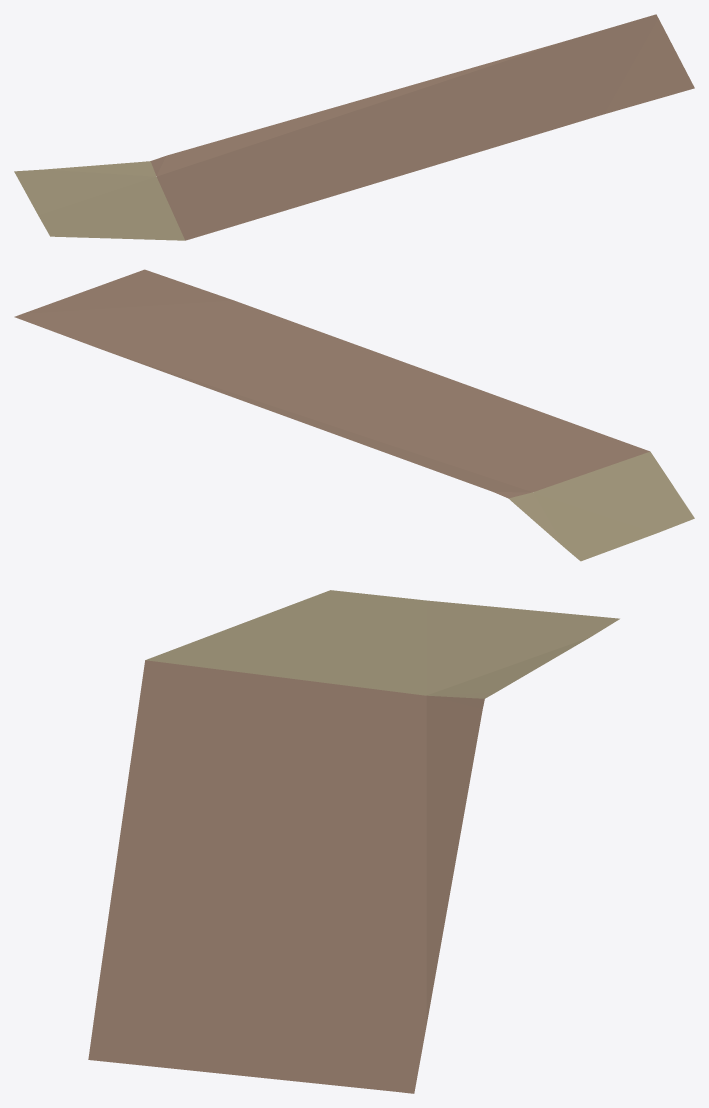
File: farm_27_20_soil.glb
The picture shows the model from 3 angles, top to bottom: view 1: azimuth 30°, elevation 25°; view 2: azimuth 150°, elevation 25°; view 3: azimuth 270°, elevation 25°; orthographic projection. The views are drawn at different scales.
Visible parts, largest first — view 1: geometry_0; view 2: geometry_0; view 3: geometry_0.
Part boxes in pixels (x1=…): geometry_0: x1=14, y1=14, x2=694, y2=240; geometry_0: x1=14, y1=269, x2=694, y2=561; geometry_0: x1=88, y1=590, x2=619, y2=1093.
Size of the model in its own units: 98.72 by 8.14 by 36.29.
